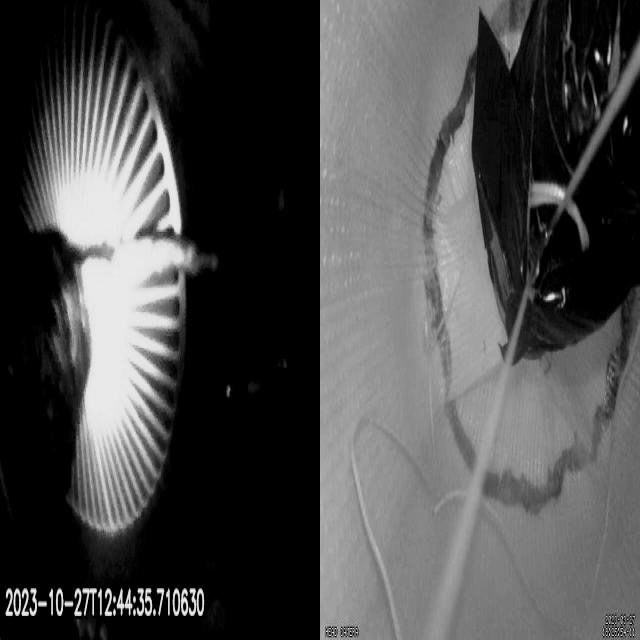red-circle: (424, 3, 636, 515)
